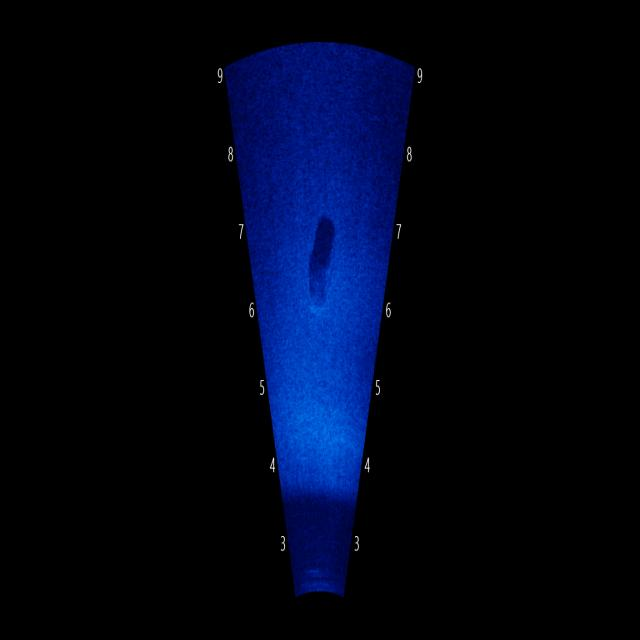square: (306, 211, 340, 321)
